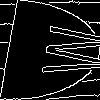W: (24, 25, 100, 77)
